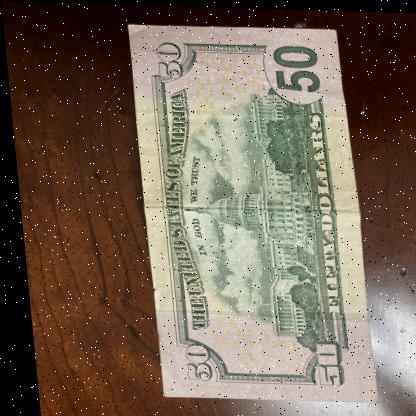fifty-back: (127, 21, 368, 400)
